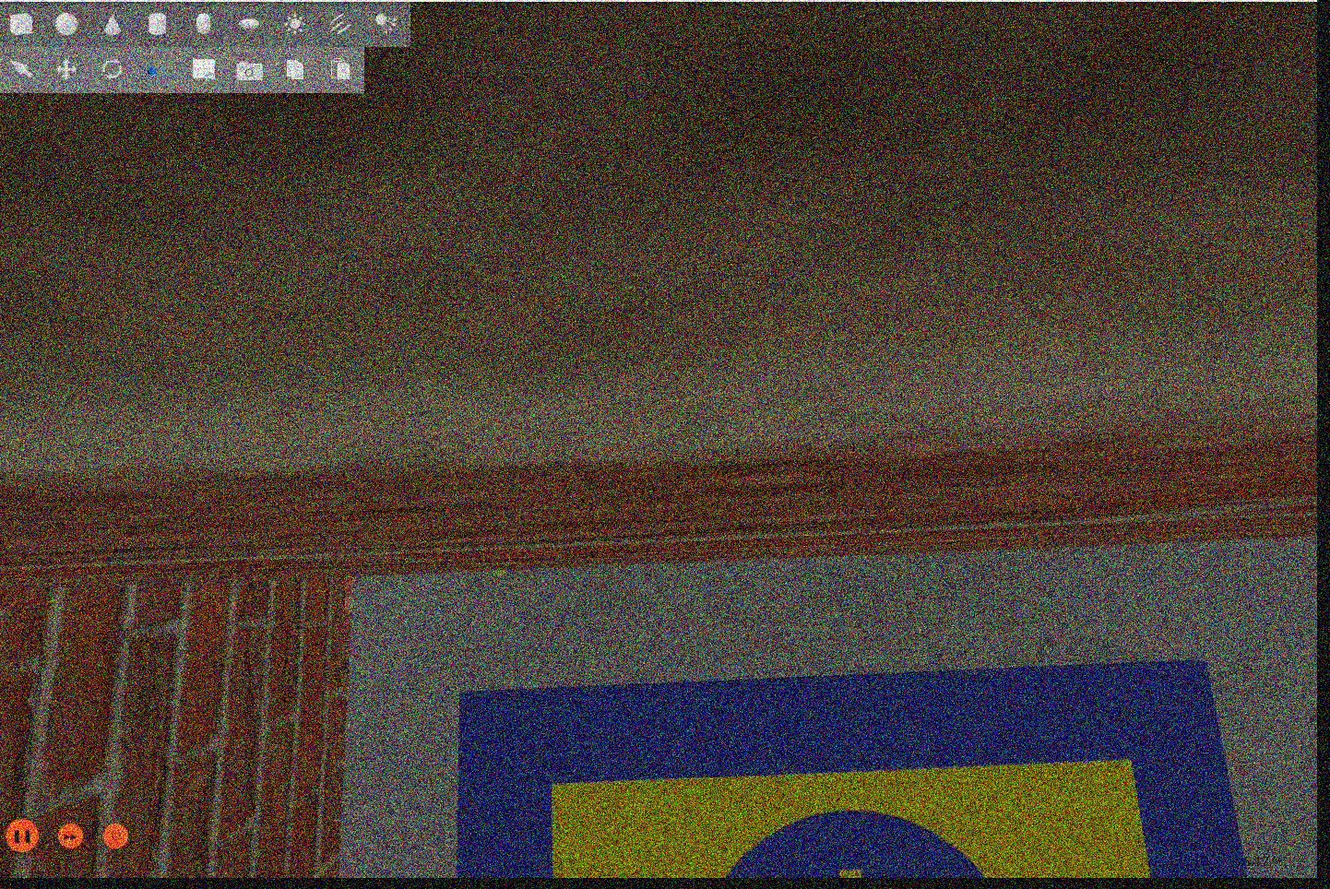large_base: (456, 664, 1246, 880)
